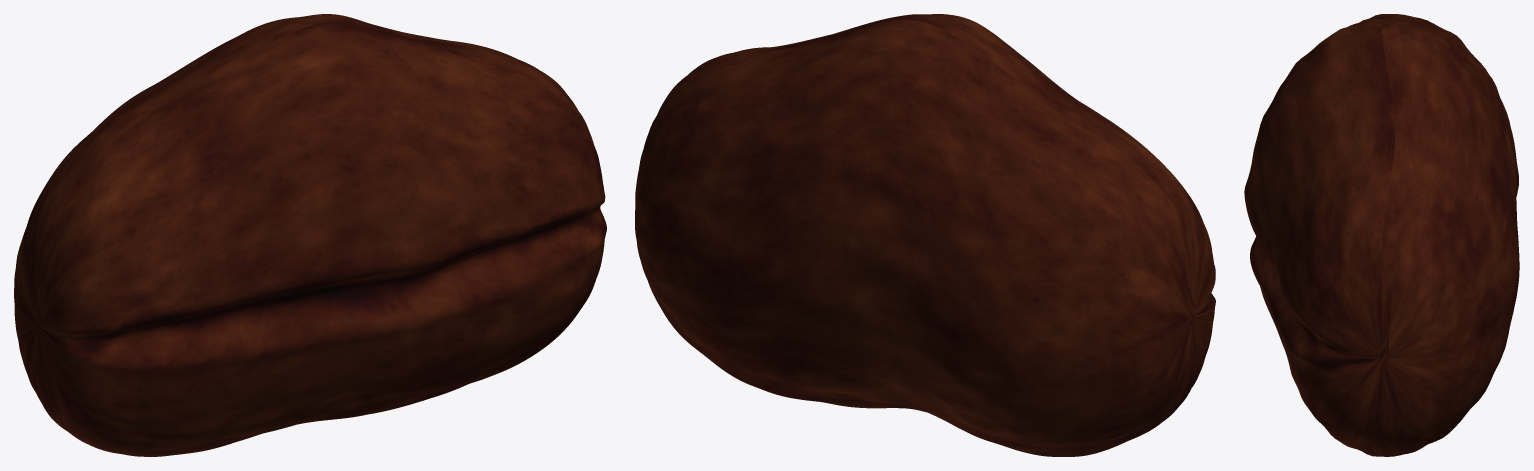
The model's file is excelsa.glb.
The picture shows the model from 3 angles, left to right: view 1: azimuth 30°, elevation 25°; view 2: azimuth 150°, elevation 25°; view 3: azimuth 270°, elevation 25°; orthographic projection. The views are drawn at different scales.
Parts seen in each view (by area): view 1: Cafe_excelsa; view 2: Cafe_excelsa; view 3: Cafe_excelsa.
Boxes of the visible parts, left/top/right/bottom form: Cafe_excelsa: left=14, top=14, right=606, bottom=456; Cafe_excelsa: left=635, top=14, right=1215, bottom=456; Cafe_excelsa: left=1244, top=14, right=1519, bottom=456.
Size of the model in its own units: 0.0116 by 0.00811 by 0.00571.
Materials: 1 (1 with a texture image).
